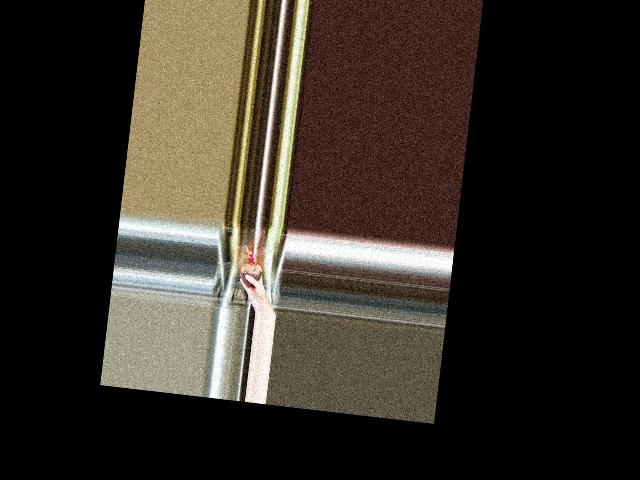beet: (238, 245, 264, 288)
